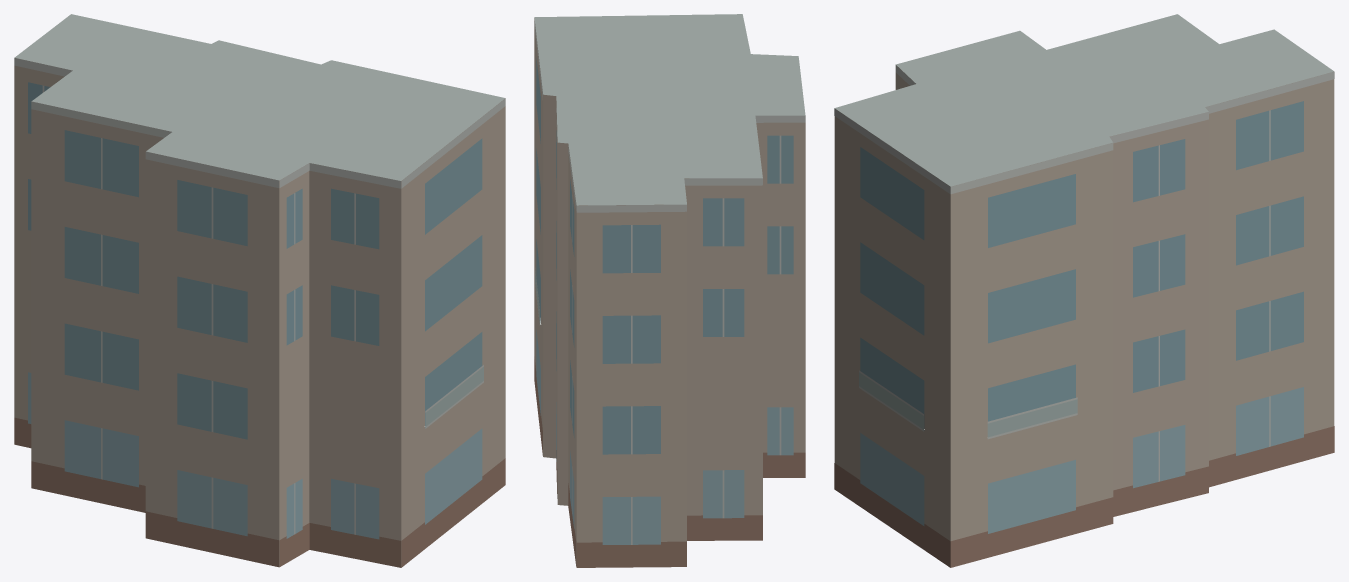
File: survey-upis-33031869.glb
3 renders of one model, left to right at view 1: azimuth 30°, elevation 25°; view 2: azimuth 150°, elevation 25°; view 3: azimuth 270°, elevation 25°, orthographic. The views are drawn at different scales.
Visible parts, largest first — view 1: survey-upis-33031869.tmp; view 2: survey-upis-33031869.tmp; view 3: survey-upis-33031869.tmp.
Part boxes in pixels (x1,y1,x2,y2): survey-upis-33031869.tmp: (14, 14, 505, 567); survey-upis-33031869.tmp: (534, 14, 805, 567); survey-upis-33031869.tmp: (834, 14, 1334, 567).
Bounding box in the file's own units: 11.76 × 12.1 × 14.39.
